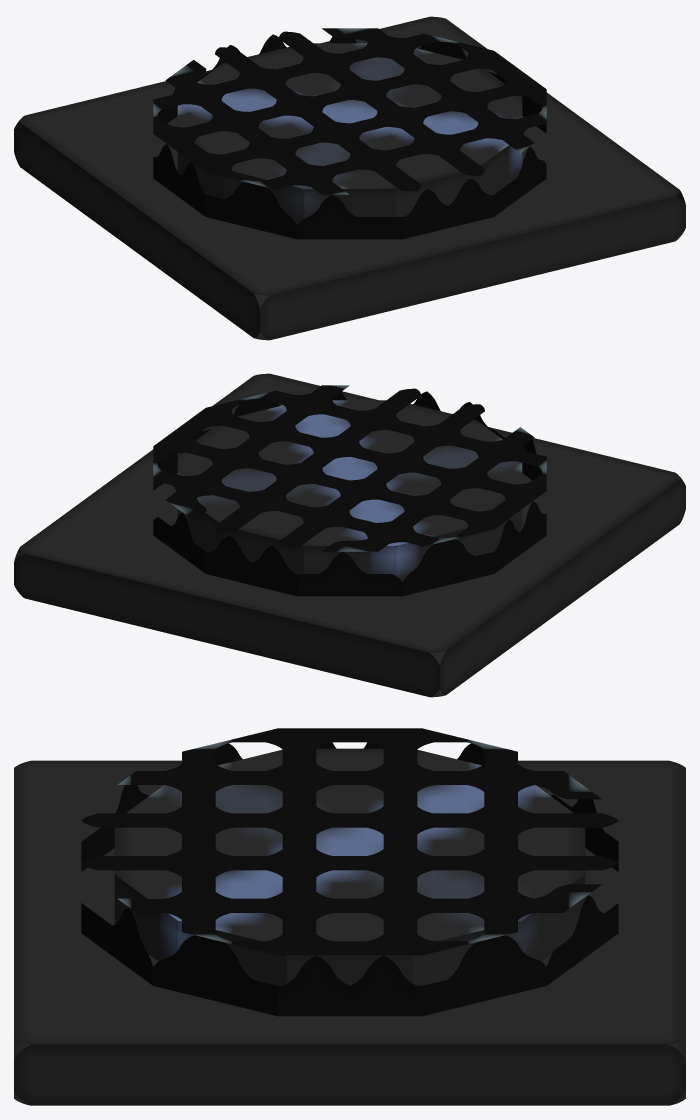
Rendered from venti.fbx.
3 views of the same model, one above another, from view 1: azimuth 30°, elevation 25°; view 2: azimuth 150°, elevation 25°; view 3: azimuth 270°, elevation 25° (orthographic). The views are drawn at different scales.
Visible parts, largest first — view 1: cylinder; view 2: cylinder; view 3: cylinder.
Part boxes in pixels (<box>): cylinder: <box>14,16,685,340</box>; cylinder: <box>14,373,685,697</box>; cylinder: <box>14,728,685,1105</box>.
Size of the model in its own units: 62.5 by 12.5 by 62.5.
1 material, 1 textured.
